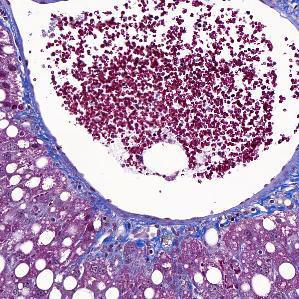fibrosis: (78, 207, 195, 274)
